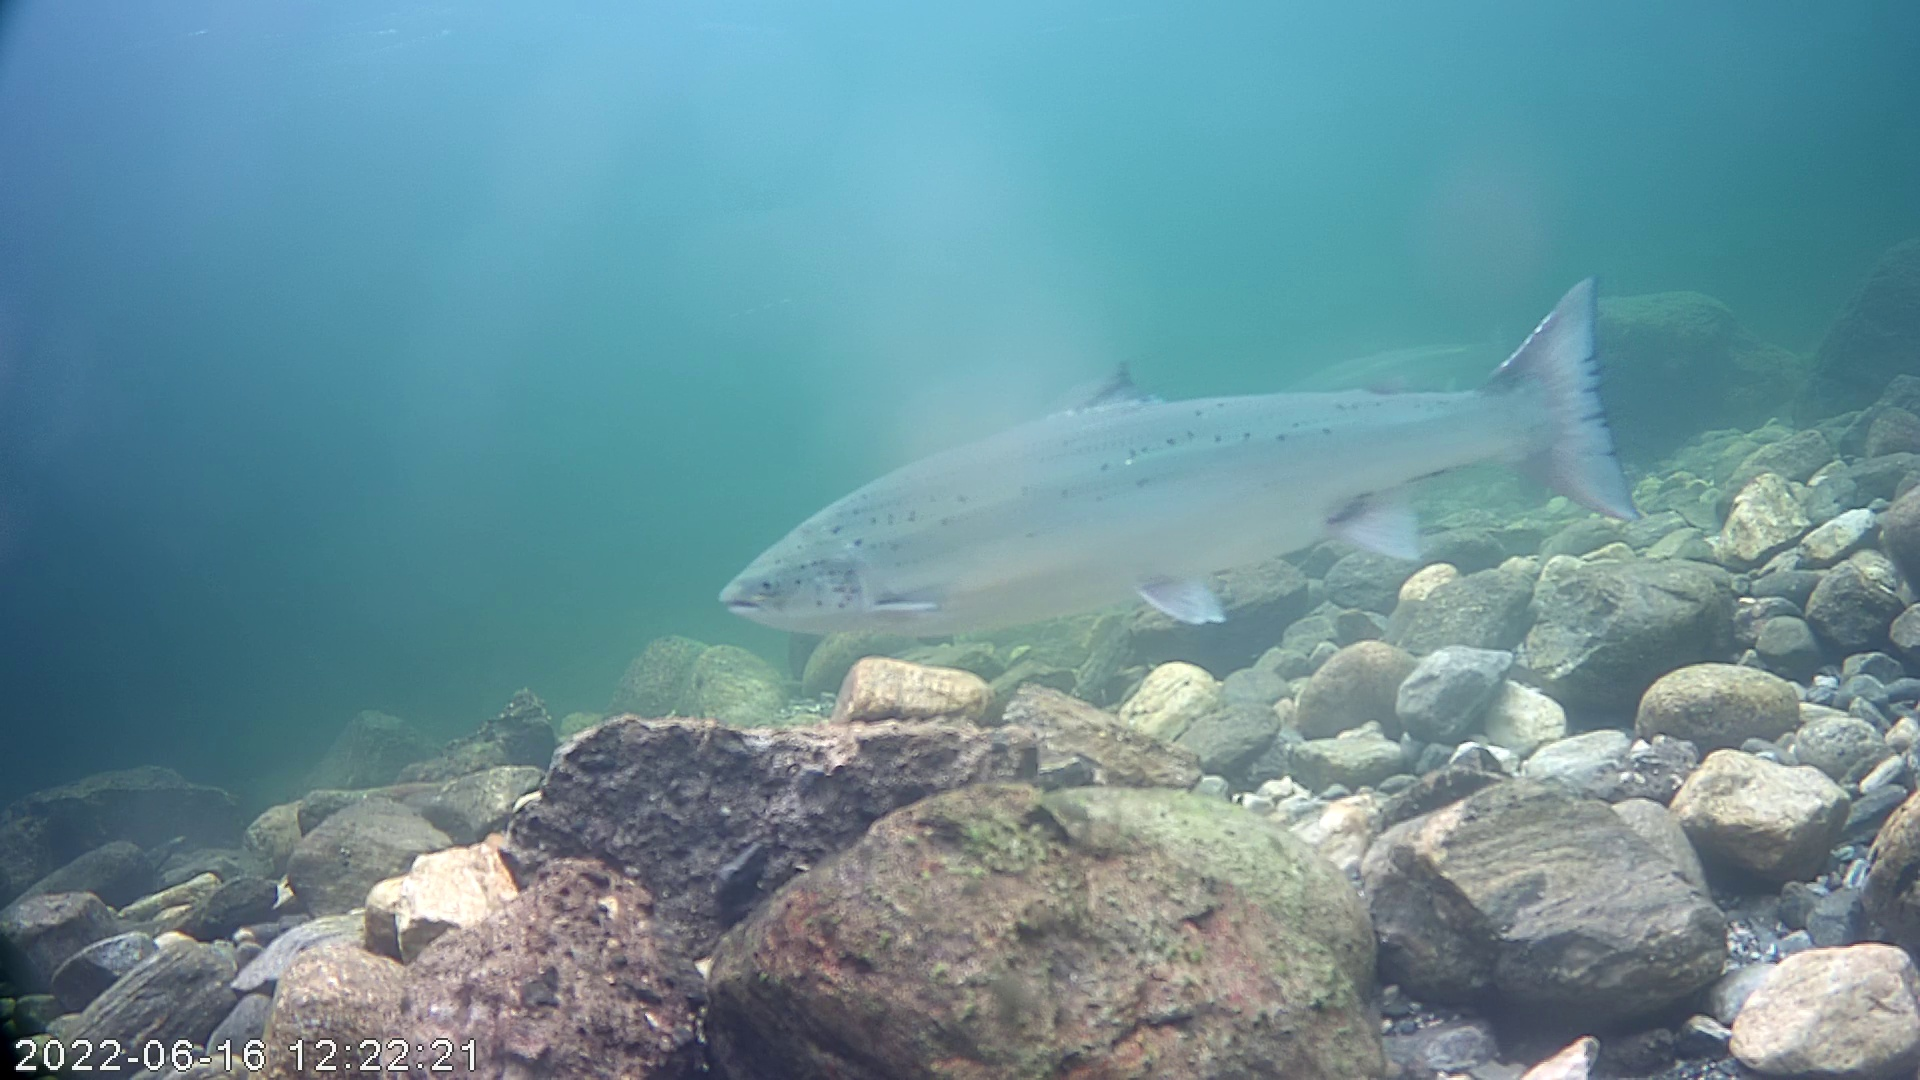salmon: (713, 272, 1646, 646)
